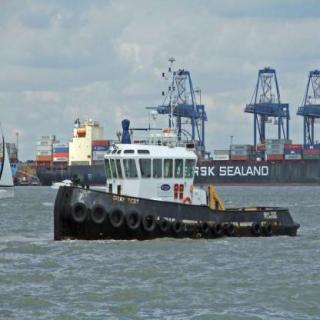Tug Boat: (46, 58, 309, 236)
